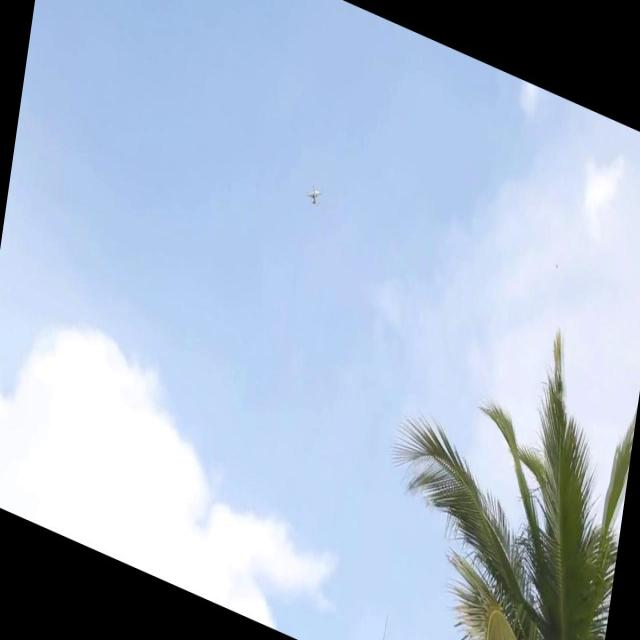drone: (306, 180, 324, 210)
